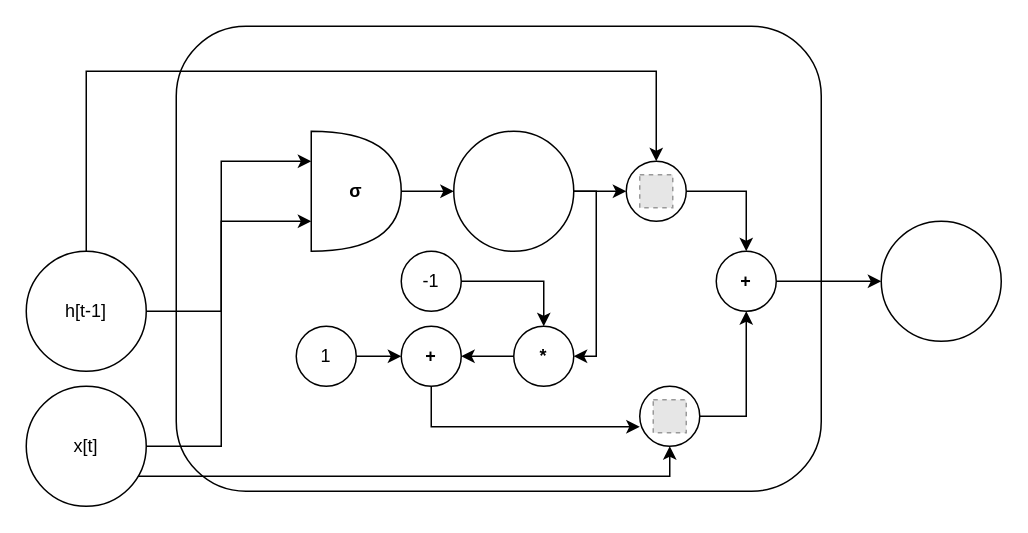
Some shapes in this 1028 by 533 pixel diagram are drawn without their labels. Grey dashed boxes stand in for pictures. Here are the shapes that lost their labels. From the top down, the centre of each, then its label:
At point (513, 190): "c[t]".
At point (940, 280): "h[t]".
